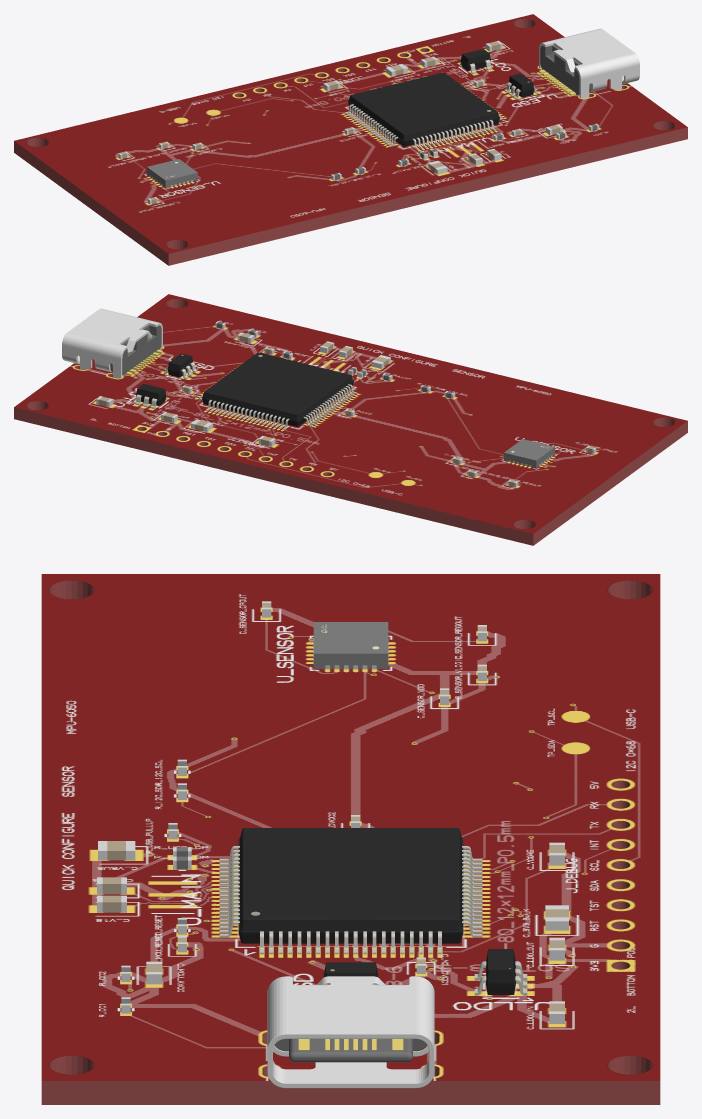
The picture shows the model from 3 angles, top to bottom: view 1: azimuth 30°, elevation 25°; view 2: azimuth 150°, elevation 25°; view 3: azimuth 270°, elevation 25°; orthographic projection. The views are drawn at different scales.
Parts seen in each view (by area): view 1: Box0, U_MAIN, J_USB, U_SENSOR, U_LDO, U_ESD; view 2: Box0, U_MAIN, J_USB, U_SENSOR, U_LDO, U_ESD; view 3: Box0, U_MAIN, J_USB, U_SENSOR, U_LDO, U_ESD.
Part boxes in pixels (x1,y1,x2,y2): Box0: [14, 14, 687, 265]; U_MAIN: [344, 72, 503, 149]; J_USB: [539, 28, 639, 98]; U_SENSOR: [147, 159, 197, 188]; U_LDO: [459, 49, 491, 73]; U_ESD: [504, 73, 538, 99]; Box0: [14, 294, 687, 545]; U_MAIN: [198, 352, 357, 429]; J_USB: [62, 308, 162, 378]; U_SENSOR: [504, 439, 554, 468]; U_LDO: [135, 384, 167, 408]; U_ESD: [163, 353, 197, 379]; Box0: [41, 574, 660, 1104]; U_MAIN: [219, 828, 482, 954]; J_USB: [267, 976, 434, 1088]; U_SENSOR: [313, 622, 388, 669]; U_LDO: [474, 949, 527, 995]; U_ESD: [323, 962, 378, 977].
Bounding box in the file's own units: 65.04 × 4.65 × 33.
15 materials, 2 textured.
